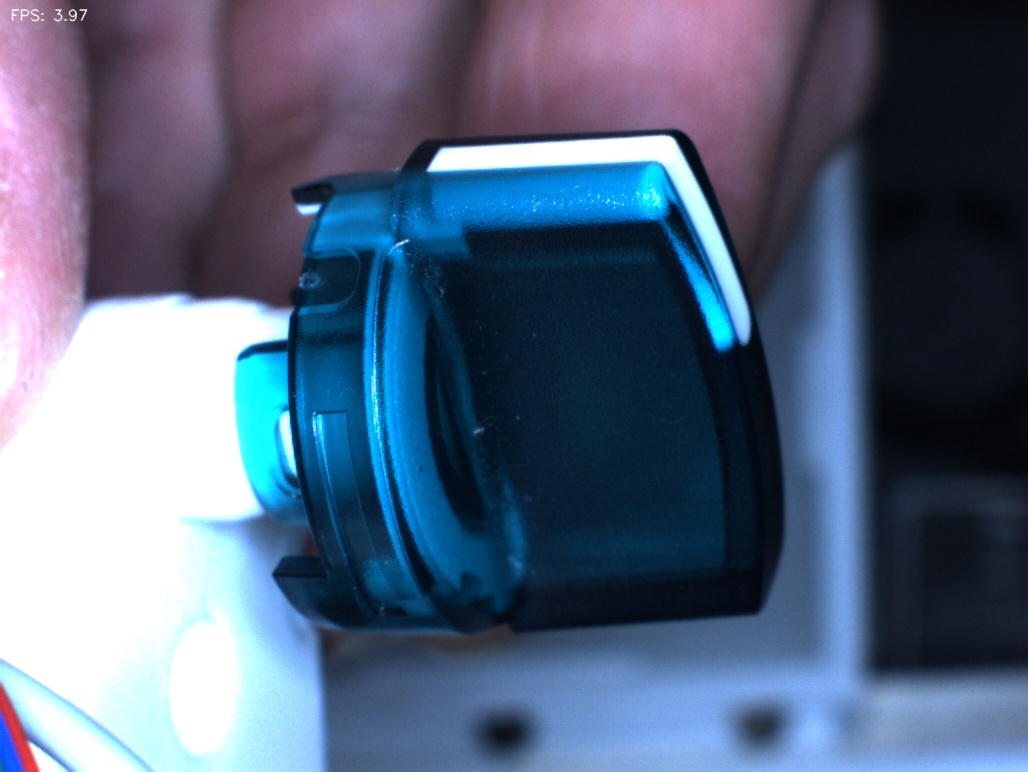PointNoir: (397, 437, 453, 506)
